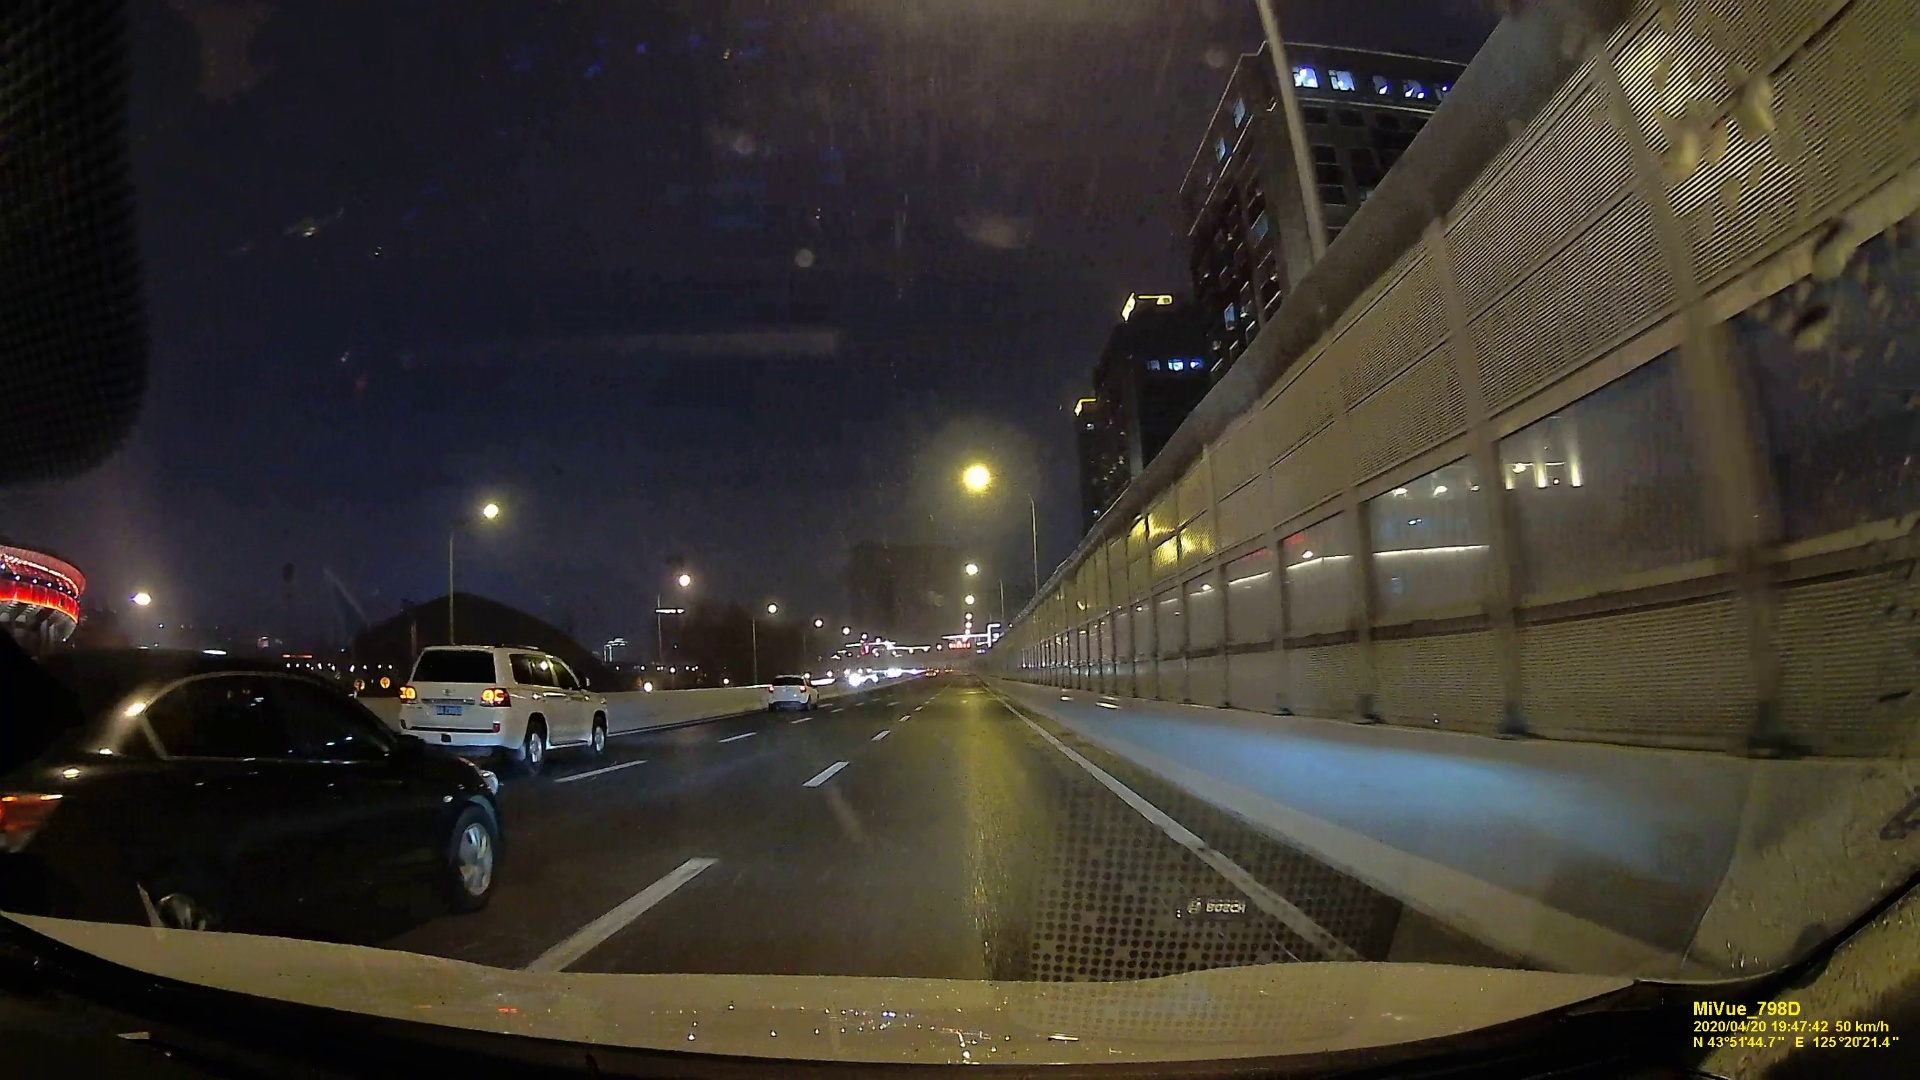vehicle: (0, 666, 495, 978), (390, 640, 603, 765), (764, 673, 819, 713)
